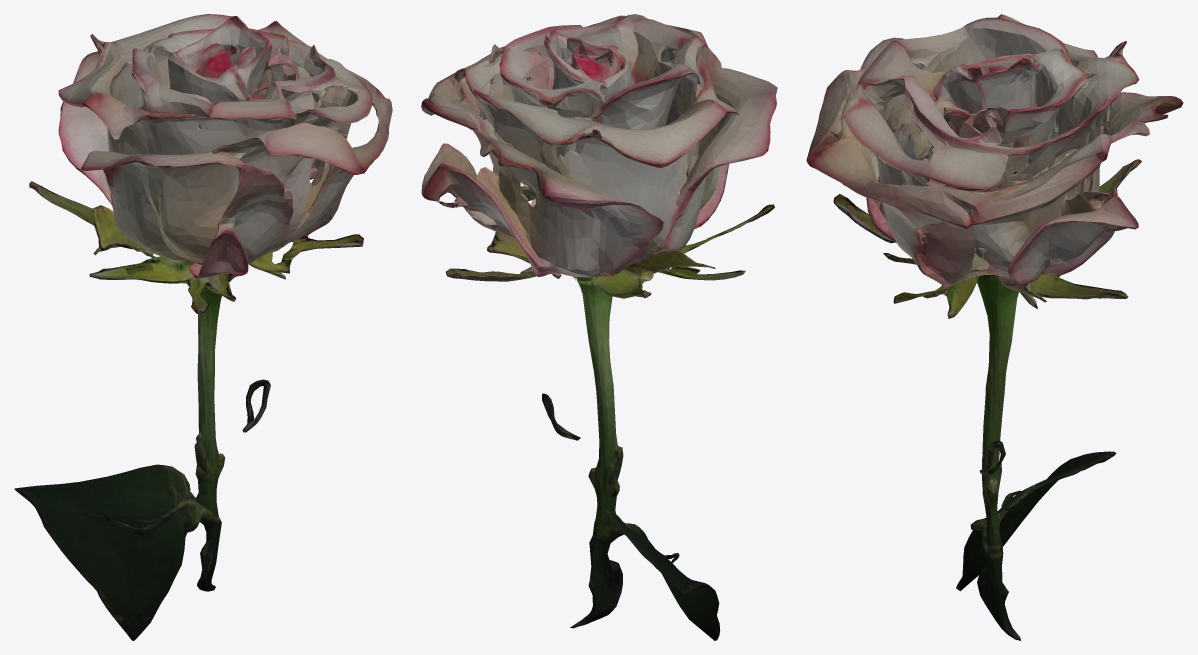
The picture shows the model from 3 angles, left to right: view 1: azimuth 30°, elevation 25°; view 2: azimuth 150°, elevation 25°; view 3: azimuth 270°, elevation 25°; orthographic projection. The views are drawn at different scales.
Parts seen in each view (by area): view 1: world; view 2: world; view 3: world.
Part boxes in pixels (bbox=[...]): world: bbox=[14, 14, 392, 640]; world: bbox=[421, 14, 777, 640]; world: bbox=[806, 14, 1183, 640].
Size of the model in its own units: 0.5584 by 0.9782 by 0.5555.
Materials: 1 (1 with a texture image).
